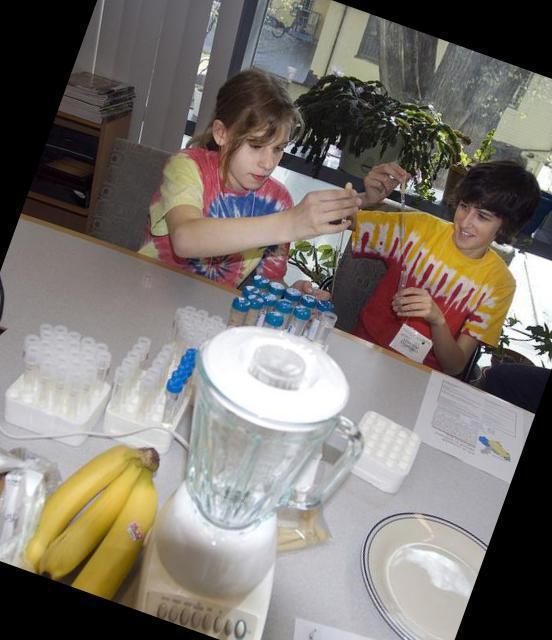Matera: (287, 58, 472, 215), (256, 225, 380, 356), (409, 292, 505, 398), (472, 298, 552, 419)
